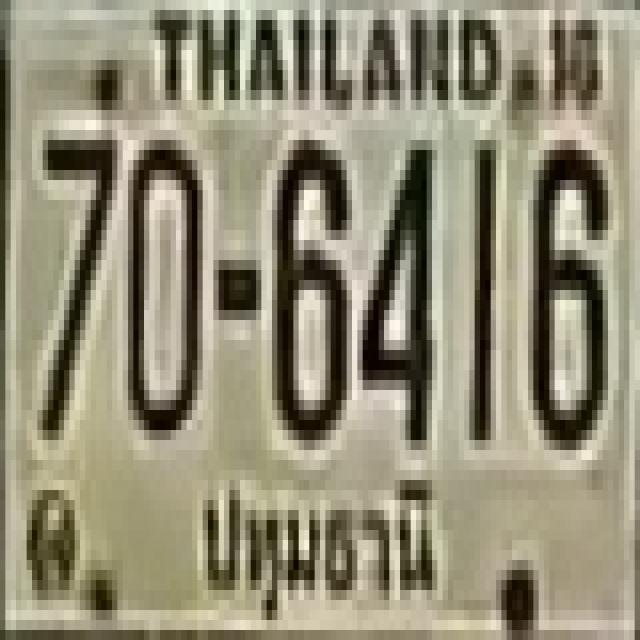0: (123, 130, 197, 430)
1: (464, 135, 491, 435), (467, 135, 493, 435)
4: (357, 130, 427, 440)
6: (528, 130, 603, 440), (272, 130, 347, 430)
7: (37, 130, 112, 430)
PTE: (195, 474, 446, 631)
